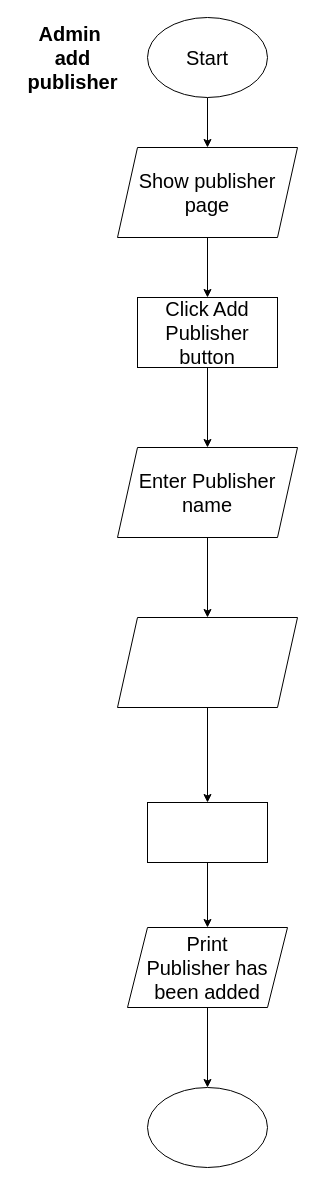
The diagram is 315 pixels wide and 1185 high, and some of its shapes have lost their labels. The shapes that lost their labels are listed below. From the top down, each one's centre as x and y in pixels, then its label:
(x=207, y=662): Enter publisher address
(x=207, y=832): Save info to table
(x=207, y=1127): End
